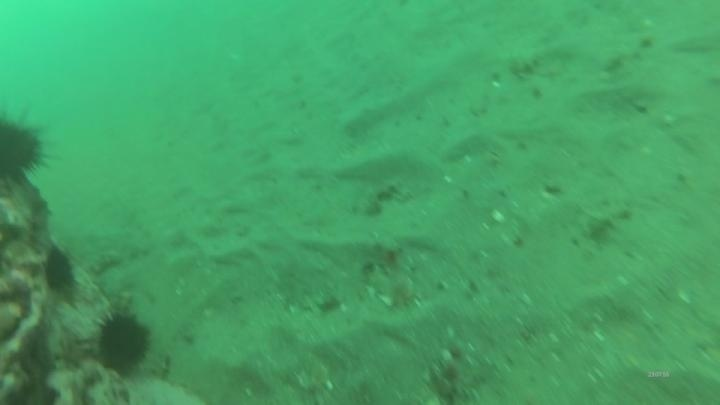echinus: (90, 305, 155, 379), (0, 107, 55, 189), (39, 244, 79, 297)
